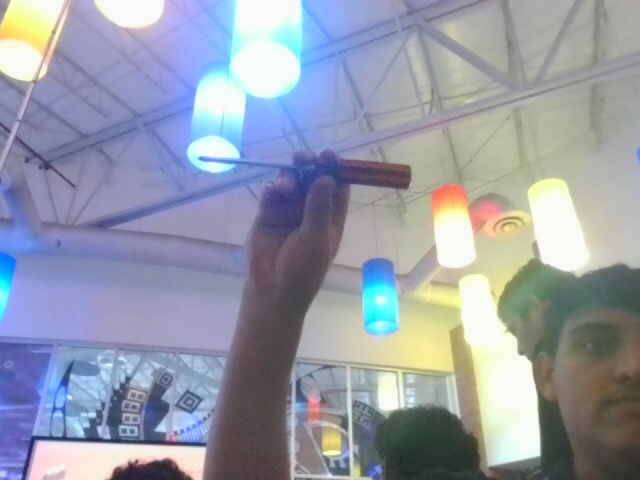destornillador: (198, 154, 412, 190)
